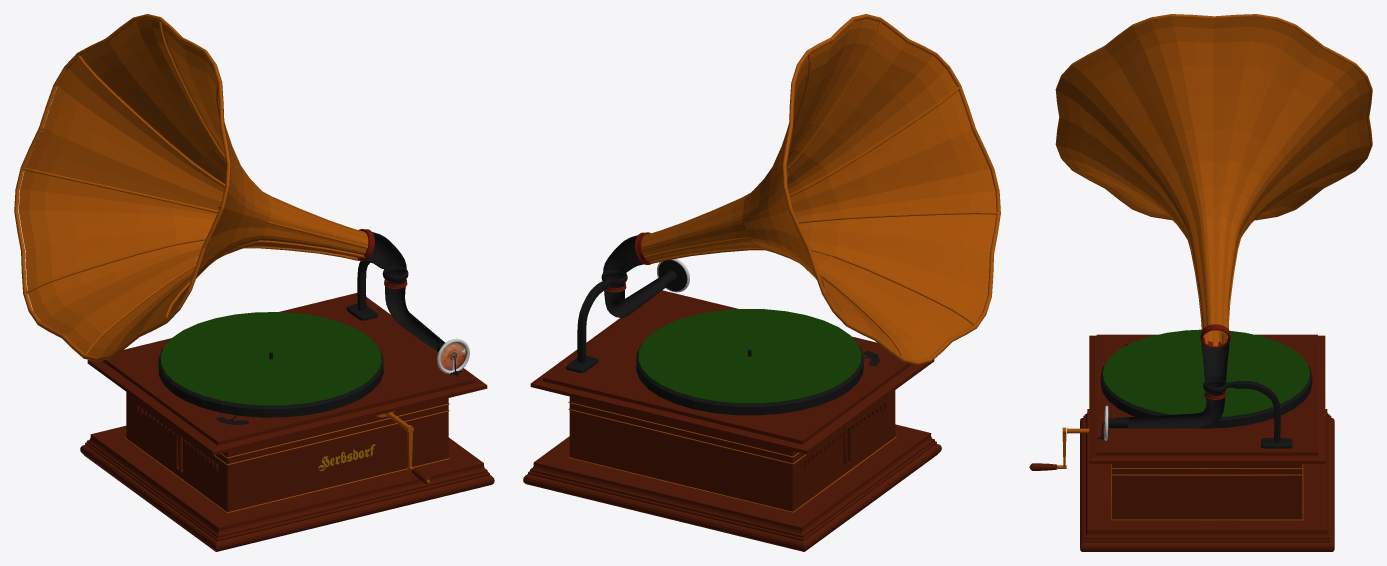
The model's file is gramophone.obj.
The picture shows the model from 3 angles, left to right: view 1: azimuth 30°, elevation 25°; view 2: azimuth 150°, elevation 25°; view 3: azimuth 270°, elevation 25°; orthographic projection. The views are drawn at different scales.
Parts seen in each view (by area): view 1: Circle.002, Plane, Circle.001, Circle.007_Mesh.006, Circle.006_Mesh, Circle, Circle.004, Plane.002_Mesh.001, Torus.002, Torus.001, Circle.003; view 2: Circle.002, Plane, Circle.001, Circle.006_Mesh, Circle.007_Mesh.006, Circle, Torus.002, Plane.002_Mesh.001, Circle.004, Circle.003, Circle.008; view 3: Circle.002, Plane, Circle.001, Circle.006_Mesh, Circle, Circle.004, Plane.002_Mesh.001, Torus.002, Circle.003, Circle.007_Mesh.006.
Part boxes in pixels (box(x1,y1,x2,y2)): Circle.002: box(18, 18, 368, 357); Plane: box(80, 293, 494, 551); Circle.001: box(160, 312, 381, 405); Circle.007_Mesh.006: box(21, 20, 367, 354); Circle.006_Mesh: box(14, 14, 230, 361); Circle: box(158, 346, 383, 417); Circle.004: box(385, 281, 444, 352); Plane.002_Mesh.001: box(125, 403, 449, 513); Torus.002: box(346, 261, 408, 320); Torus.001: box(437, 338, 469, 373); Circle.003: box(366, 232, 406, 281); Circle.002: box(641, 18, 996, 360); Plane: box(523, 290, 941, 551); Circle.001: box(638, 309, 861, 403); Circle.006_Mesh: box(782, 14, 1000, 365); Circle.007_Mesh.006: box(641, 21, 997, 357); Circle: box(636, 343, 863, 415); Torus.002: box(566, 270, 627, 372); Plane.002_Mesh.001: box(568, 401, 896, 512); Circle.004: box(604, 274, 670, 317); Circle.003: box(603, 235, 643, 284); Circle.008: box(657, 260, 687, 291); Circle.002: box(1057, 17, 1369, 346); Plane: box(1080, 334, 1334, 551); Circle.001: box(1102, 329, 1309, 417); Circle.006_Mesh: box(1055, 14, 1372, 220); Circle: box(1100, 365, 1312, 428); Circle.004: box(1115, 392, 1224, 428); Plane.002_Mesh.001: box(1111, 464, 1303, 520); Torus.002: box(1203, 379, 1292, 448); Circle.003: box(1201, 341, 1229, 392); Circle.007_Mesh.006: box(1163, 207, 1253, 343).
Bounding box in the file's own units: 6.84 × 8.25 × 5.98.
